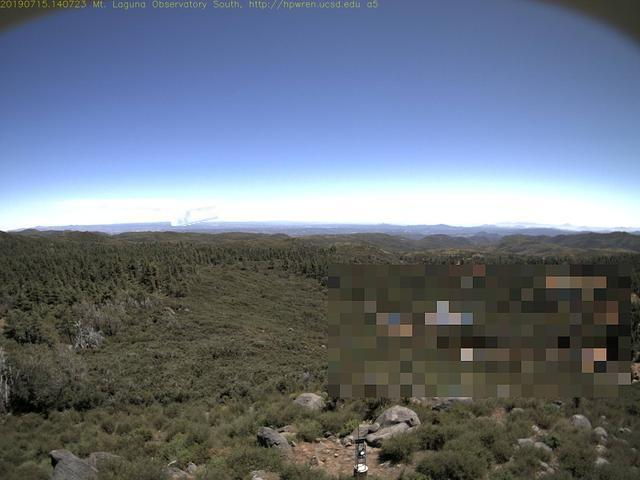smoke: (171, 203, 220, 226)
